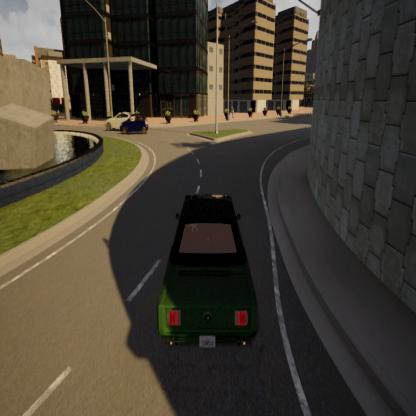Cars: (138, 180, 264, 360), (104, 104, 135, 132), (117, 111, 151, 134)
